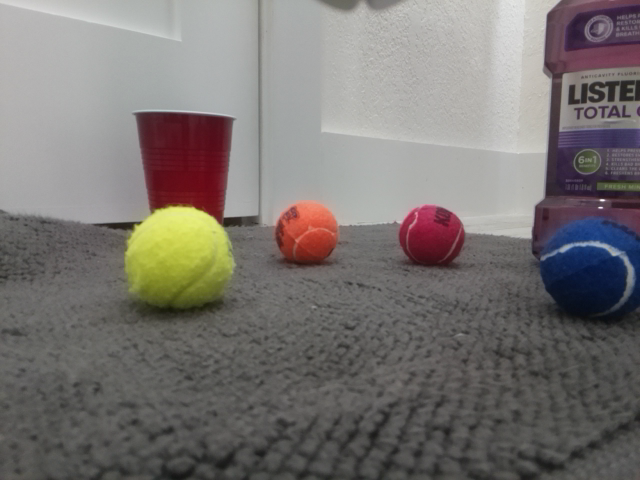blue-ball: (537, 214, 640, 322)
orange-ball: (274, 199, 339, 267)
red-ball: (398, 203, 466, 268)
yellow-ball: (123, 202, 234, 312)
